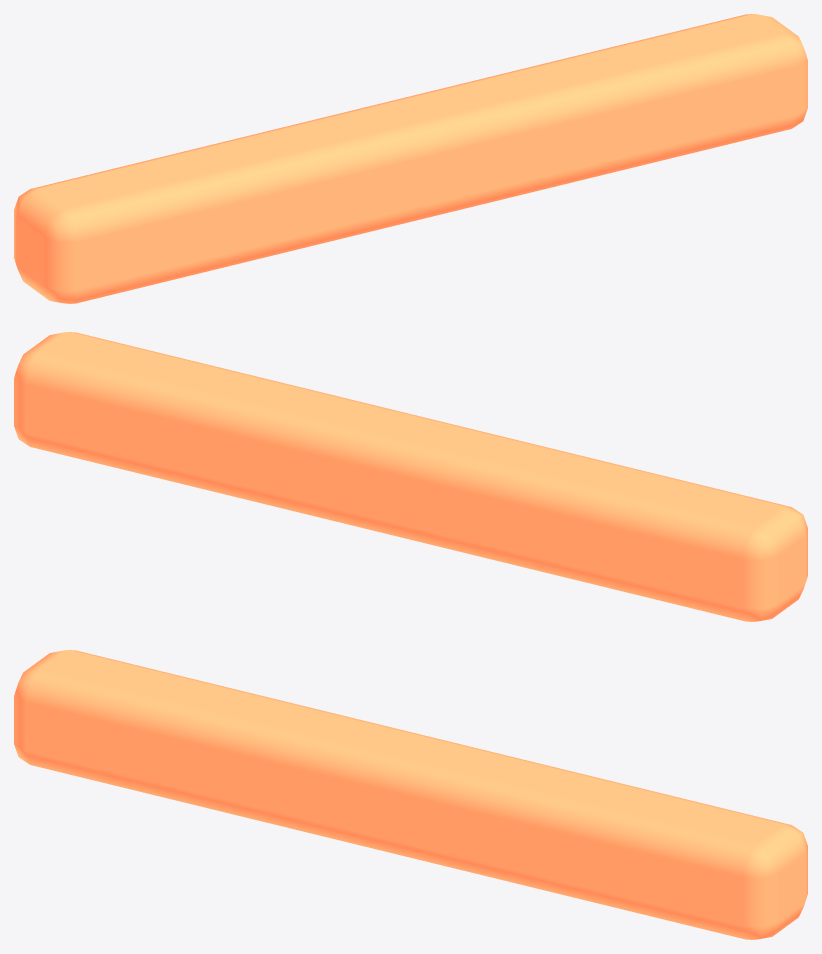
The model's file is laser.glb.
3 renders of one model, top to bottom at view 1: azimuth 30°, elevation 25°; view 2: azimuth 150°, elevation 25°; view 3: azimuth 330°, elevation 25°, orthographic.
Visible parts, largest first — view 1: Pulsing beam; view 2: Pulsing beam; view 3: Pulsing beam.
Boxes of the visible parts, bbox=[...] form: Pulsing beam: bbox=[14, 14, 807, 303]; Pulsing beam: bbox=[14, 332, 807, 621]; Pulsing beam: bbox=[14, 650, 807, 939].
Bounding box in the file's own units: 1 × 0.12 × 0.12.
